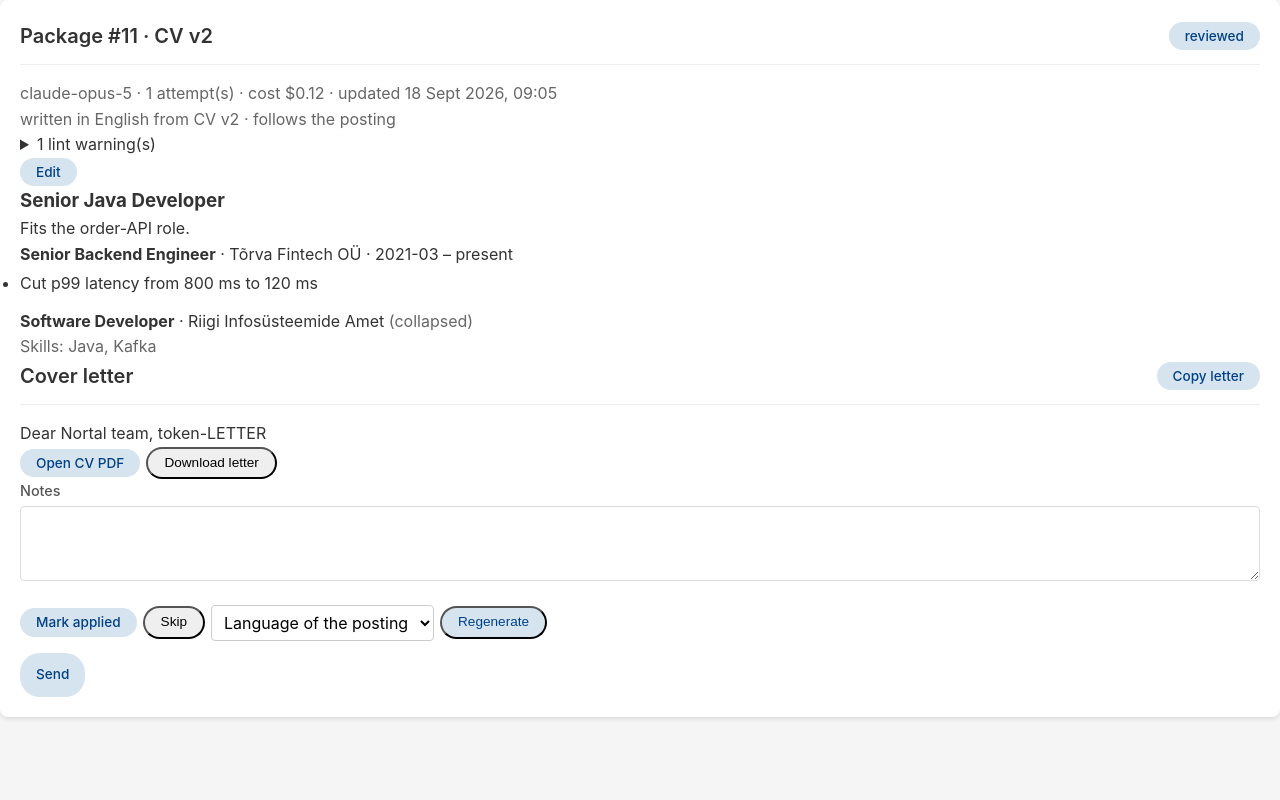
Test: PackageSend — the confirm dialog shows exactly the mail › outside production: the sink line, and no Bcc copy
Click the button "Send" at (53, 674), box [20, 652, 85, 696]
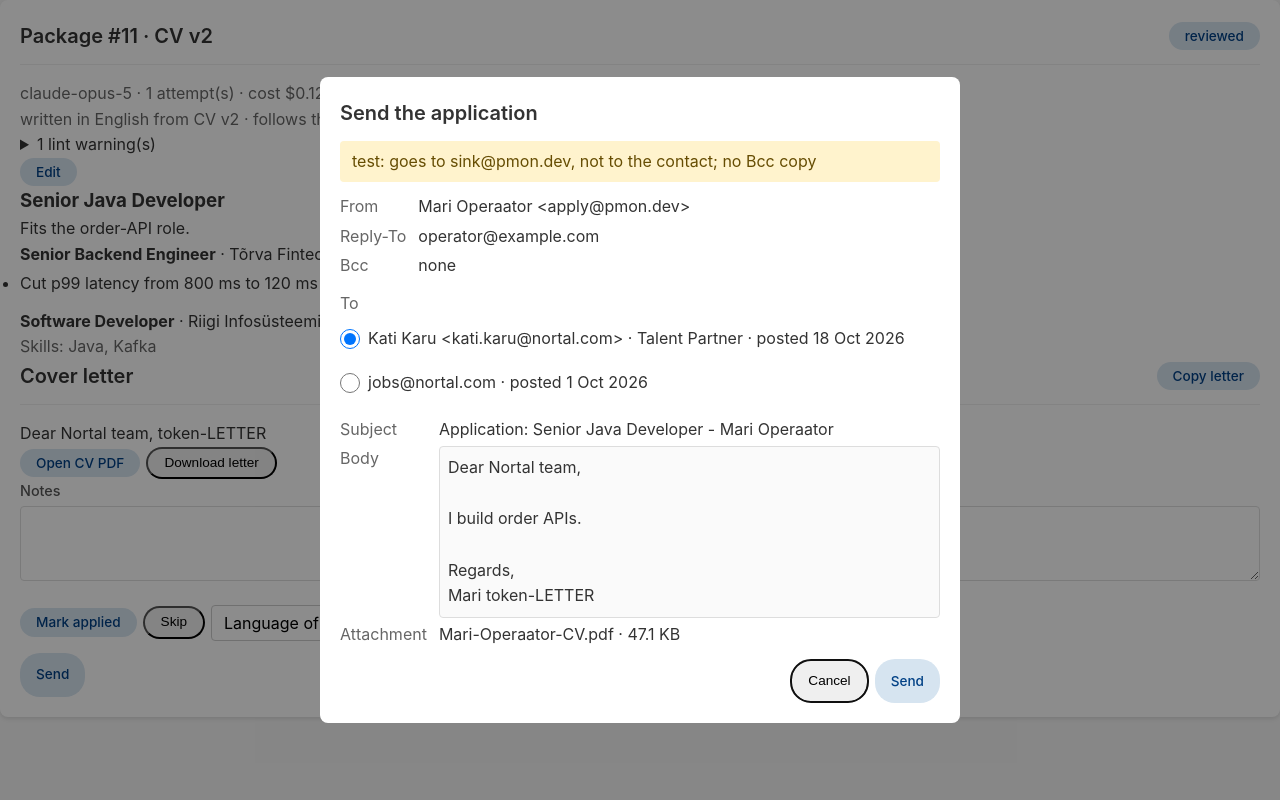
Now the text "test: goes to sink@pmon.dev, not to the contact; no Bcc copy" is shown, box [340, 141, 940, 182]
Now the text "none" is shown, box [418, 255, 456, 275]
